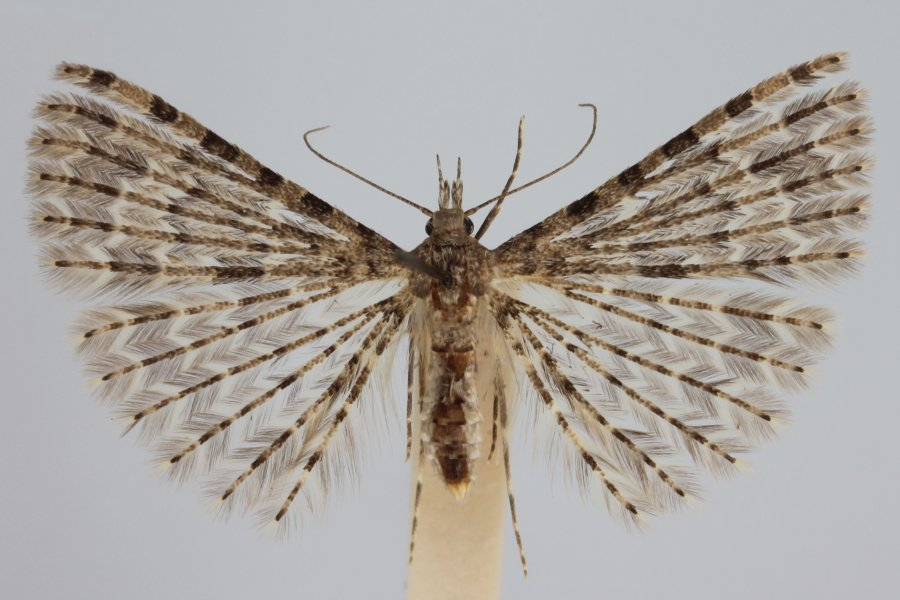Alucitidae: (31, 47, 879, 586)
moth: (29, 45, 877, 584)
